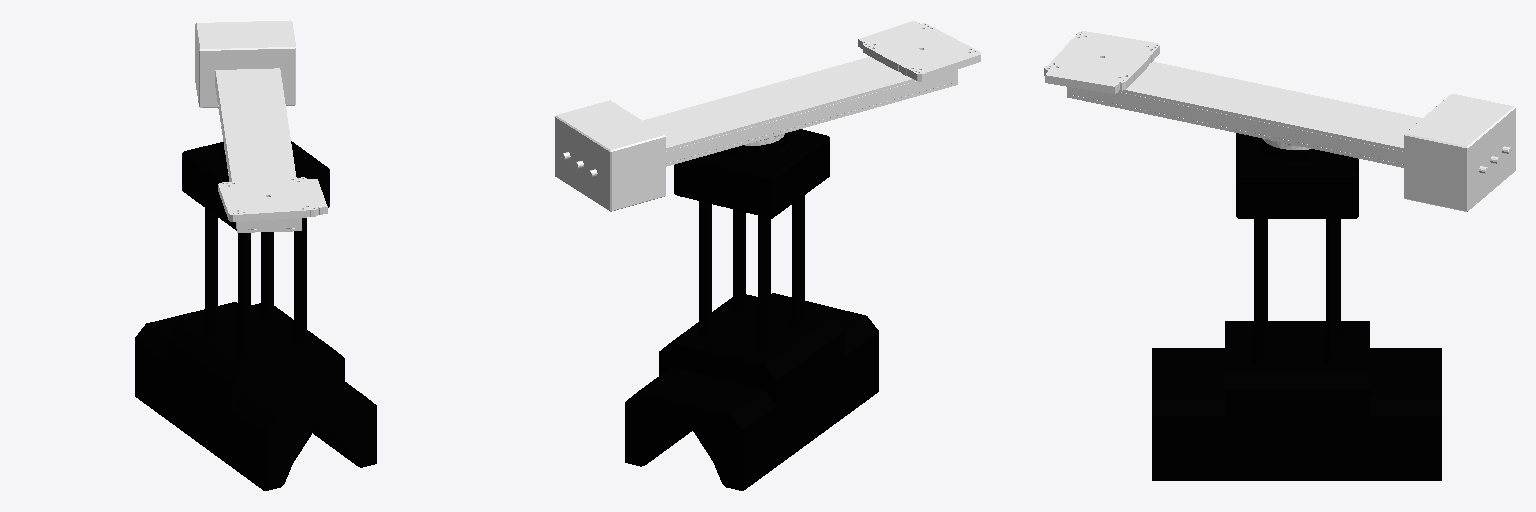
The robot description file, URDF, robot "fanuc":
<?xml version="1.0" ?>
<!-- =================================================================================== -->
<!-- |    This document was autogenerated by xacro from [local-path]/slider_fanuc/src/robot_slider_description/urdf/fanuc_boat.urdf.xacro | -->
<!-- |    EDITING THIS FILE BY HAND IS NOT RECOMMENDED                                 | -->
<!-- =================================================================================== -->
<robot name="fanuc">
    <link name="world" />
    <link name="boat_link">
        <inertial>
            <origin rpy="0 0 0" xyz="0.0029912 -0.083551 0.56051" />
            <mass value="300.98" />
            <inertia ixx="65.942" ixy="-0.0012689" ixz="-0.044489" iyy="74.027" iyz="-0.19476" izz="15.95" />
        </inertial>
        <visual>
            <geometry>
                <mesh filename="package://robot_slider_description/meshes/boatwithstand.dae" scale="1 1 1" />
            </geometry>
        </visual>
        <collision>
            <origin rpy="0 1.57 0 " xyz="0 0.25 -12" />
            <geometry>
                <box size="30 0.5 0.3" />
            </geometry>
        </collision>
    </link>
    <link name="rail_stand_link_right">
        <inertial>
            <origin rpy="0 0 0" xyz="0.0029912 -0.083551 0.56051" />
            <mass value="300.98" />
            <inertia ixx="65.942" ixy="-0.0012689" ixz="-0.044489" iyy="74.027" iyz="-0.19476" izz="15.95" />
        </inertial>
        <visual>
            <geometry>
                <mesh filename="package://robot_slider_description/meshes/rail_stand.dae" scale="1 1 1" />
            </geometry>
        </visual>
        <collision>
            <origin rpy=" 0 1.57 0.0" xyz="0.7 0.125 -12" />
            <geometry>
                <box size="30 0.25 1.3" />
            </geometry>
        </collision>
    </link>
    <joint name="boat_world_joint" type="fixed">
        <parent link="world" />
        <child link="boat_link" />
        <origin rpy="1.57 0.0 0" xyz="0 0 0" />
    </joint>
    <joint name="rail_stand_right_world_joint" type="fixed">
        <parent link="world" />
        <child link="rail_stand_link_right" />
        <origin rpy="1.57 0.0 0" xyz="1.2 0 0" />
    </joint>
    <link name="slider_link">
        <inertial>
            <origin rpy="0 0 0" xyz="0.75 1.0487 -3.6486" />
            <mass value="1317.8" />
            <inertia ixx="353.39" ixy="3.9338E-12" ixz="3.5103E-13" iyy="420.06" iyz="4.9967E-13" izz="170.54" />
        </inertial>
        <visual>
            <origin rpy="0 0 0" xyz="0 0 0" />
            <geometry>
                <mesh filename="package://robot_slider_description/meshes/slider_link.STL" />
            </geometry>
            <material name="">
                <color rgba="0.019608 0.019608 0.019608 1" />
            </material>
        </visual>
        <collision>
            <origin rpy="0 0 0" xyz="0 0 0" />
            <geometry>
                <mesh filename="package://robot_slider_description/meshes/slider_link.STL" />
            </geometry>
        </collision>
    </link>
    <link name="robot_stand">
        <inertial>
            <origin rpy="0 0 0" xyz="0.0029912 -0.083551 0.56051" />
            <mass value="300.98" />
            <inertia ixx="65.942" ixy="-0.0012689" ixz="-0.044489" iyy="74.027" iyz="-0.19476" izz="15.95" />
        </inertial>
        <visual>
            <origin rpy="0 0 0" xyz="0 0 0" />
            <geometry>
                <mesh filename="package://robot_slider_description/meshes/robot_stand.STL" />
            </geometry>
            <material name="">
                <color rgba="0.99608 0.99608 1 1" />
            </material>
        </visual>
        <collision>
            <origin rpy="0 0 0" xyz="0 0 0" />
            <geometry>
                <mesh filename="package://robot_slider_description/meshes/robot_stand.STL" />
            </geometry>
        </collision>
    </link>
    <joint name="robot_stand_slider_joint" type="revolute">
        <origin rpy="-1.5708 0 -0.46063" xyz="0.75 3.6486 2.7" />
        <parent link="slider_link" />
        <child link="robot_stand" />
        <axis xyz="0 1 0" />
        <limit effort="1" lower="-0.7853981633974483" upper="3.141592653589793" velocity="1" />
    </joint>
    <joint name="slider_link_rail_stand_right_joint" type="prismatic">
        <parent link="rail_stand_link_right" />
        <child link="slider_link" />
        <origin rpy="-1.57 0.0 0" xyz="0 0 0" />
        <axis xyz="0.0 1 0.0" />
        <limit effort="3" lower="-1.8" upper="21" velocity="2" />
    </joint>
    <link name="base_link">
        <inertial>
            <mass value="1.584994" />
            <origin rpy="0 0 0" xyz="0.0 0.0 0.0" />
            <inertia ixx="0.01042" ixy="0.001177" ixz="-0.0008871" iyy="0.01045" iyz="0.0002226" izz="0.01817" />
        </inertial>
        <visual>
            <geometry>
                <mesh filename="package://robot_slider_description/meshes/base_link.stl" scale="1 1 1" />
            </geometry>
            <material name="RED">
                <color rgba="1.0 0.0 0.0 1.0" />
            </material>
        </visual>
        <collision>
            <geometry>
                <mesh filename="package://robot_slider_description/meshes/base_link.stl" scale="1 1 1" />
            </geometry>
        </collision>
    </link>
    <joint name="joint_1" type="revolute">
        <parent link="base_link" />
        <child link="link_1" />
        <origin rpy="0.0 0.0 0.0" xyz="0 0 0.670" />
        <axis xyz="0 0 1" />
        <limit effort="150.0" lower="-3.142" upper="3.142" velocity="1.5" />
    </joint>
    <link name="link_1">
        <inertial>
            <mass value="0.4" />
            <origin rpy="0 0 0" xyz="0.0 0.0 0.0" />
            <inertia ixx="0.01042" ixy="0.001177" ixz="-0.0008871" iyy="0.01045" iyz="0.0002226" izz="0.01817" />
        </inertial>
        <visual>
            <geometry>
                <mesh filename="package://robot_slider_description/meshes/link_1.stl" scale="1 1 1" />
            </geometry>
            <material name="voilet">
                <color rgba="1.0 0.3 1.0 1.0" />
            </material>
        </visual>
        <collision>
            <geometry>
                <mesh filename="package://robot_slider_description/meshes/link_1.stl" scale="1 1 1" />
            </geometry>
        </collision>
    </link>
    <joint name="joint_2" type="revolute">
        <parent link="link_1" />
        <child link="link_2" />
        <origin rpy="0.0 0.0 0.0" xyz="0.312 0 0" />
        <axis xyz="0 1 0" />
        <limit effort="150.0" lower="-1.0472" upper="1.3264" velocity="1.5" />
    </joint>
    <link name="link_2">
        <inertial>
            <mass value="0.4" />
            <origin rpy="0 0 0" xyz="0.0 0.0 0.0" />
            <inertia ixx="0.01042" ixy="0.001177" ixz="-0.0008871" iyy="0.01045" iyz="0.0002226" izz="0.01817" />
        </inertial>
        <visual>
            <geometry>
                <mesh filename="package://robot_slider_description/meshes/link_2.stl" scale="1 1 1" />
            </geometry>
            <material name="voilet">
                <color rgba="1.0 0.3 1.0 1.0" />
            </material>
        </visual>
        <collision>
            <geometry>
                <mesh filename="package://robot_slider_description/meshes/link_2.stl" scale="1 1 1" />
            </geometry>
        </collision>
    </link>
    <joint name="joint_3" type="revolute">
        <parent link="link_2" />
        <child link="link_3" />
        <origin rpy="0.0 0.0 0.0" xyz="0 0 1.075" />
        <axis xyz="0 -1 0" />
        <limit effort="150.0" lower="-2.303" upper="4.014" velocity="1.5" />
    </joint>
    <link name="link_3">
        <inertial>
            <mass value="0.4" />
            <origin rpy="0 0 0" xyz="0.0 0.0 0.0" />
            <inertia ixx="0.01042" ixy="0.001177" ixz="-0.0008871" iyy="0.01045" iyz="0.0002226" izz="0.01817" />
        </inertial>
        <visual>
            <geometry>
                <mesh filename="package://robot_slider_description/meshes/link_3.stl" scale="1 1 1" />
            </geometry>
            <material name="voilet">
                <color rgba="1.0 0.3 1.0 1.0" />
            </material>
        </visual>
        <collision>
            <geometry>
                <mesh filename="package://robot_slider_description/meshes/link_3.stl" scale="1 1 1" />
            </geometry>
        </collision>
    </link>
    <joint name="joint_4" type="revolute">
        <parent link="link_3" />
        <child link="link_4" />
        <origin rpy="0.0 0.0 0.0" xyz="0 0 0.225" />
        <axis xyz="-1 0 0" />
        <limit effort="150.0" lower="-6.28" upper="6.28" velocity="1.5" />
    </joint>
    <link name="link_4">
        <inertial>
            <mass value="0.4" />
            <origin rpy="0 0 0" xyz="0.0 0.0 0.0" />
            <inertia ixx="0.01042" ixy="0.001177" ixz="-0.0008871" iyy="0.01045" iyz="0.0002226" izz="0.01817" />
        </inertial>
        <visual>
            <geometry>
                <mesh filename="package://robot_slider_description/meshes/link_4.stl" scale="1 1 1" />
            </geometry>
            <material name="voilet">
                <color rgba="1.0 0.3 1.0 1.0" />
            </material>
        </visual>
        <collision>
            <geometry>
                <mesh filename="package://robot_slider_description/meshes/link_4.stl" scale="1 1 1" />
            </geometry>
        </collision>
    </link>
    <joint name="joint_5" type="revolute">
        <parent link="link_4" />
        <child link="link_5" />
        <origin rpy="0.0 0.0 0.0" xyz="1.280 0 0" />
        <axis xyz="0 -1 0" />
        <limit effort="150.0" lower="-2.181" upper="2.181" velocity="1.5" />
    </joint>
    <link name="link_5">
        <inertial>
            <mass value="0.4" />
            <origin rpy="0 0 0" xyz="0.0 0.0 0.0" />
            <inertia ixx="0.01042" ixy="0.001177" ixz="-0.0008871" iyy="0.01045" iyz="0.0002226" izz="0.01817" />
        </inertial>
        <visual>
            <geometry>
                <mesh filename="package://robot_slider_description/meshes/link_5.stl" scale="1 1 1" />
            </geometry>
            <material name="voilet">
                <color rgba="1.0 0.3 1.0 1.0" />
            </material>
        </visual>
        <collision>
            <geometry>
                <mesh filename="package://robot_slider_description/meshes/link_5.stl" scale="1 1 1" />
            </geometry>
        </collision>
    </link>
    <joint name="joint_6" type="revolute">
        <parent link="link_5" />
        <child link="link_6" />
        <origin rpy="0.0 0.0 0.0" xyz="0.235 0 0" />
        <axis xyz="-1 0 0" />
        <limit effort="150.0" lower="-6.28" upper="6.28" velocity="1.5" />
    </joint>
    <link name="link_6">
        <inertial>
            <mass value="0.4" />
            <origin rpy="0 0 0" xyz="0.0 0.0 0.0" />
            <inertia ixx="0.01042" ixy="0.001177" ixz="-0.0008871" iyy="0.01045" iyz="0.0002226" izz="0.01817" />
        </inertial>
        <visual>
            <geometry>
                <mesh filename="package://robot_slider_description/meshes/link_6.stl" scale="1 1 1" />
            </geometry>
            <material name="voilet">
                <color rgba="1.0 0.3 1.0 1.0" />
            </material>
        </visual>
        <collision>
            <geometry>
                <mesh filename="package://robot_slider_description/meshes/link_6.stl" scale="1 1 1" />
            </geometry>
        </collision>
    </link>
    <link name="base" />
    <joint name="base_link-base" type="fixed">
        <origin rpy="0 0 0" xyz="0 0 0.670" />
        <parent link="base_link" />
        <child link="base" />
    </joint>
    <link name="flange" />
    <joint name="joint_6-flange" type="fixed">
        <origin rpy="0 0 0" xyz="0 0 0" />
        <parent link="link_6" />
        <child link="flange" />
    </joint>
    <joint name="grinder_joint" type="fixed">
        <origin rpy="0 0 -1.57" xyz="0.35 0 0" />
        <parent link="flange" />
        <child link="tool" />
    </joint>
    <link name="tool">
        <inertial>
            <mass value="4" />
            <origin rpy="0 0 0" xyz="0.0 0.0 0.0" />
            <inertia ixx="0.01042" ixy="0.001177" ixz="-0.0008871" iyy="0.01045" iyz="0.0002226" izz="0.01817" />
        </inertial>
        <visual>
            <geometry>
                <mesh filename="package://robot_slider_description/meshes/Unnamed-endEffector_stependEffector.dae" scale="1.5 1.5 1.5" />
            </geometry>
            <material name="voilet">
                <color rgba="1.0 0.3 1.0 1.0" />
            </material>
        </visual>
        <collision>
            <geometry>
                <mesh filename="package://robot_slider_description/meshes/Unnamed-endEffector_stependEffector.dae" scale="1.5 1.5 1.5" />
            </geometry>
        </collision>
    </link>
    <link name="tool_face" />
    <joint name="toolface_joint" type="fixed">
        <origin rpy="1.57 0 0" xyz="0 0 0" />
        <parent link="tool" />
        <child link="tool_face" />
    </joint>
    <joint name="boat_base_slider_joint" type="fixed">
        <origin rpy="1.5707963267948966 0 0" xyz="0 -0.235 -1.5" />
        <parent link="robot_stand" />
        <child link="base_link" />
    </joint>
    <transmission name="joint_1_tran">
        <type>transmission_interface/SimpleTransmission</type>
        <joint name="joint_1">
            <hardwareInterface>hardware_interface/PositionJointInterface</hardwareInterface>
        </joint>
        <actuator name="joint_1_motor">
            <hardwareInterface>hardware_interface/PositionJointInterface</hardwareInterface>
            <mechanicalReduction>1</mechanicalReduction>
        </actuator>
    </transmission>
    <!-- Transmissions  -->
    <transmission name="joint_2_tran">
        <type>transmission_interface/SimpleTransmission</type>
        <joint name="joint_2">
            <hardwareInterface>hardware_interface/PositionJointInterface</hardwareInterface>
        </joint>
        <actuator name="joint_2_motor">
            <hardwareInterface>hardware_interface/PositionJointInterface</hardwareInterface>
            <mechanicalReduction>1</mechanicalReduction>
        </actuator>
    </transmission>
    <!-- Transmissions  -->
    <transmission name="joint_3_tran">
        <type>transmission_interface/SimpleTransmission</type>
        <joint name="joint_3">
            <hardwareInterface>hardware_interface/PositionJointInterface</hardwareInterface>
        </joint>
        <actuator name="joint_3_motor">
            <hardwareInterface>hardware_interface/PositionJointInterface</hardwareInterface>
            <mechanicalReduction>1</mechanicalReduction>
        </actuator>
    </transmission>
    <!-- Transmissions  -->
    <transmission name="joint_4_tran">
        <type>transmission_interface/SimpleTransmission</type>
        <joint name="joint_4">
            <hardwareInterface>hardware_interface/PositionJointInterface</hardwareInterface>
        </joint>
        <actuator name="joint_4_motor">
            <hardwareInterface>hardware_interface/PositionJointInterface</hardwareInterface>
            <mechanicalReduction>1</mechanicalReduction>
        </actuator>
    </transmission>
    <!-- Transmissions  -->
    <transmission name="joint_5_tran">
        <type>transmission_interface/SimpleTransmission</type>
        <joint name="joint_5">
            <hardwareInterface>hardware_interface/PositionJointInterface</hardwareInterface>
        </joint>
        <actuator name="joint_5_motor">
            <hardwareInterface>hardware_interface/PositionJointInterface</hardwareInterface>
            <mechanicalReduction>1</mechanicalReduction>
        </actuator>
    </transmission>
    <!-- Transmissions  -->
    <transmission name="joint_6_tran">
        <type>transmission_interface/SimpleTransmission</type>
        <joint name="joint_6">
            <hardwareInterface>hardware_interface/PositionJointInterface</hardwareInterface>
        </joint>
        <actuator name="joint_6_motor">
            <hardwareInterface>hardware_interface/PositionJointInterface</hardwareInterface>
            <mechanicalReduction>1</mechanicalReduction>
        </actuator>
    </transmission>
    <transmission name="prismatic_tran">
        <type>transmission_interface/SimpleTransmission</type>
        <joint name="slider_link_rail_stand_right_joint">
            <hardwareInterface>hardware_interface/PositionJointInterface</hardwareInterface>
        </joint>
        <actuator name="prismatic_motor">
            <hardwareInterface>hardware_interface/PositionJointInterface</hardwareInterface>
            <mechanicalReduction>1</mechanicalReduction>
        </actuator>
    </transmission>
    <transmission name="robot_stand_slider_tran">
        <type>transmission_interface/SimpleTransmission</type>
        <joint name="robot_stand_slider_joint">
            <hardwareInterface>hardware_interface/PositionJointInterface</hardwareInterface>
        </joint>
        <actuator name="robot_stand_slider_motor">
            <hardwareInterface>hardware_interface/PositionJointInterface</hardwareInterface>
            <mechanicalReduction>1</mechanicalReduction>
        </actuator>
    </transmission>
    <!-- Gazebo colors -->
    <gazebo reference="base_link">
        <material>Gazebo/Grey</material>
        <plugin name="gazebo_ros_control">
            <robotNamespace>/</robotNamespace>
        </plugin>
    </gazebo>
    <gazebo reference="link_1">
        <material>Gazebo/</material>
    </gazebo>
    <gazebo reference="link_2">
        <material>Gazebo/Orange</material>
    </gazebo>
    <gazebo reference="link_3">
        <material>Gazebo/</material>
    </gazebo>
    <gazebo reference="link_4">
        <material>Gazebo/Grey</material>
    </gazebo>
    <gazebo reference="link_5">
        <material>Gazebo/Orange</material>
    </gazebo>
    <gazebo reference="link_6">
        <material>Gazebo/Orange</material>
    </gazebo>
    <gazebo reference="tool">
        <material>Gazebo/Blue</material>
    </gazebo>
    <gazebo reference="boat_link">
        <material>Gazebo/Blue</material>
    </gazebo>
    <gazebo reference="rail_stand_link_right">
        <material>Gazebo/Orange</material>
    </gazebo>
    <gazebo reference="slider_link">
        <material>Gazebo/Orange</material>
    </gazebo>
    <gazebo reference="robot_stand">
        <material>Gazebo/Blue</material>
    </gazebo>
    <!-- Self collision in Gazebo -->
    <!-- Plugins and publishers -->
    <gazebo>
        <plugin filename="libgazebo_ros_control.so" name="gazebo_ros_control">
            <robotSimType>gazebo_ros_control/DefaultRobotHWSim</robotSimType>
        </plugin>
    </gazebo>
</robot>

--- What the picture shows (computed from the rendered views, not written in the file) ---
3 views of the same robot in one strip: view 1: azimuth 30°, elevation 25°; view 2: azimuth 150°, elevation 25°; view 3: azimuth 270°, elevation 25° (orthographic).
Model fanuc with 16 links and 15 joints (7 revolute, 1 prismatic, 7 fixed), rooted at world, posed every joint at zero.
Visible links, largest first — view 1: slider_link, robot_stand; view 2: slider_link, robot_stand; view 3: slider_link, robot_stand.
Link boxes in pixels (x1,y1,x2,y2): slider_link: [135, 141, 376, 490]; robot_stand: [195, 20, 327, 232]; slider_link: [625, 129, 878, 490]; robot_stand: [555, 21, 980, 211]; slider_link: [1152, 133, 1441, 480]; robot_stand: [1044, 31, 1515, 211].
Size in the robot's own frame: 2.09 by 3.25 by 2.77 metres.
2 mesh visuals loaded from 12 distinct referenced files (2 binary STL); not drawn: 10 (reference not matched to a file when rendering).